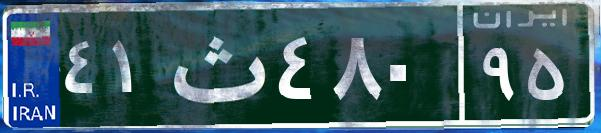0: (385, 28, 445, 110)
1: (110, 28, 158, 105)
4: (273, 28, 330, 110), (57, 26, 110, 107)
5: (525, 38, 570, 115)
8: (330, 28, 385, 110)
9: (475, 38, 525, 113)
ث: (158, 15, 273, 115)
